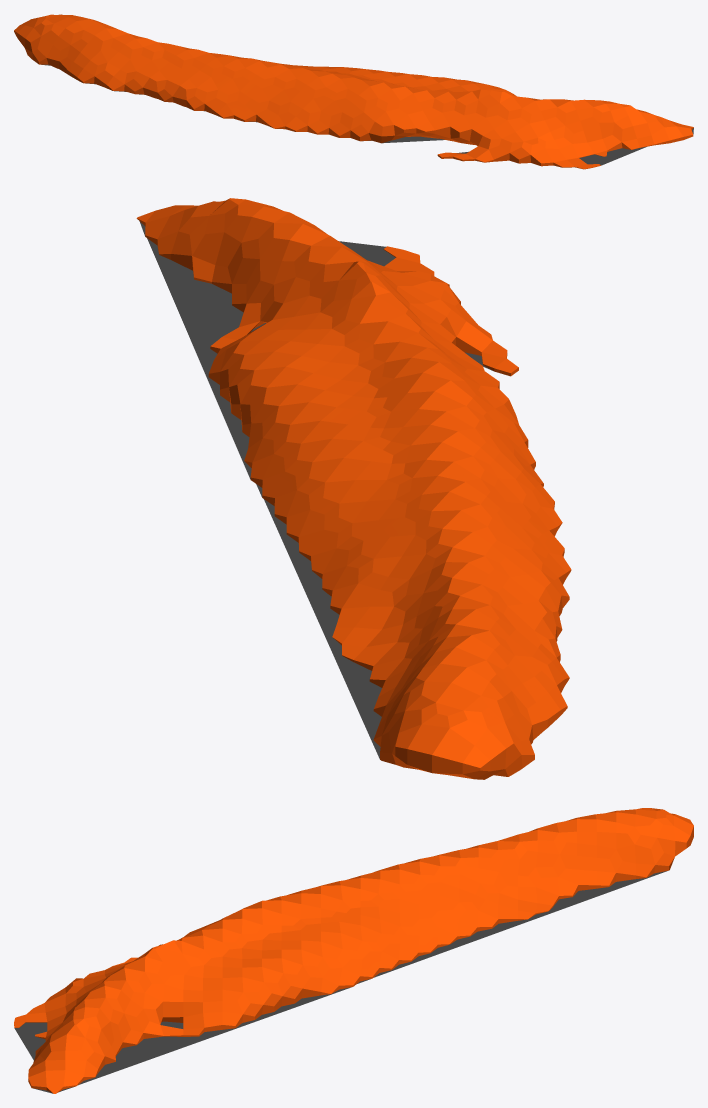
3 views of the same model, one above another, from view 1: azimuth 30°, elevation 25°; view 2: azimuth 150°, elevation 25°; view 3: azimuth 270°, elevation 25° (orthographic). The views are drawn at different scales.
Parts seen in each view (by area): view 1: 19.014; view 2: 19.014; view 3: 19.014.
Part boxes in pixels (<box>): 19.014: <box>14,14,693,169</box>; 19.014: <box>136,198,571,779</box>; 19.014: <box>14,808,693,1093</box>.
Size of the model in its own units: 15.55 by 1.51 by 17.28.
